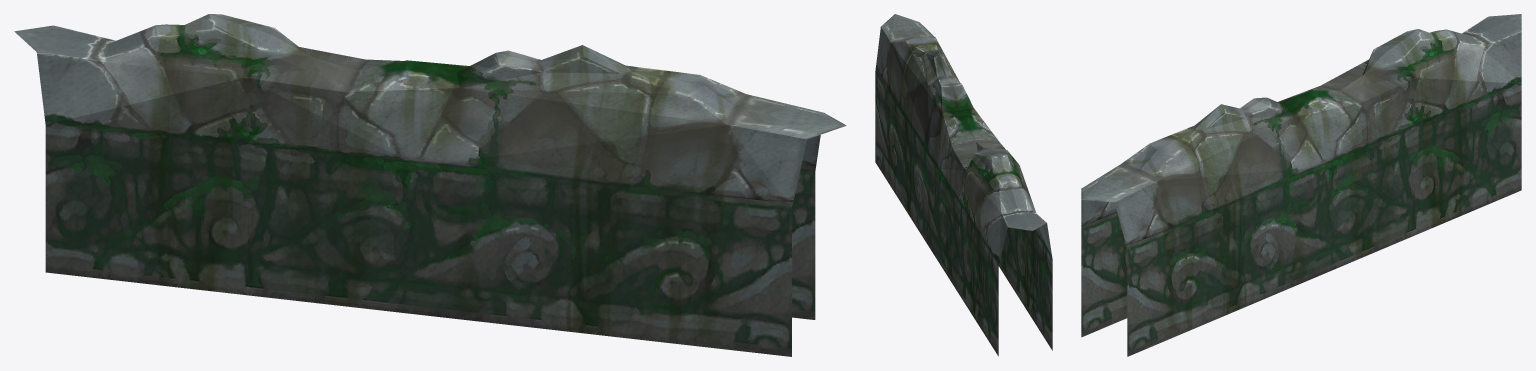
The model's file is stemple_quarter_diagonal_01.fbx.
3 views of the same model, side by side, from view 1: azimuth 30°, elevation 25°; view 2: azimuth 150°, elevation 25°; view 3: azimuth 270°, elevation 25° (orthographic). The views are drawn at different scales.
Parts seen in each view (by area): view 1: obj0.122; view 2: obj0.122; view 3: obj0.122.
Part boxes in pixels (x1,y1,x2,y2): obj0.122: [14, 14, 846, 356]; obj0.122: [875, 14, 1052, 356]; obj0.122: [1081, 14, 1521, 356].
Bounding box in the file's own units: 4 × 1.94 × 4.
